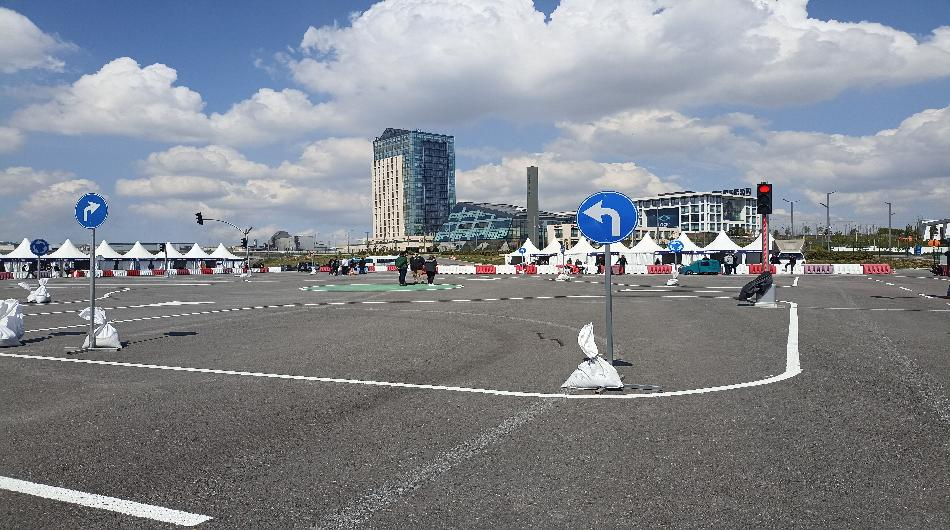ada: (44, 245, 169, 316), (28, 245, 44, 260)
red_light: (749, 179, 776, 218)
saga_mecburi_2: (70, 191, 113, 233)
sola_mecburi_2: (576, 189, 639, 244)
